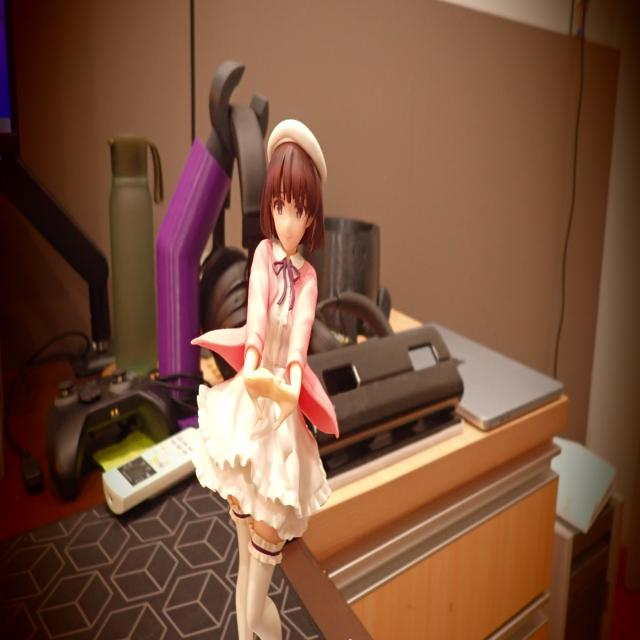My-pink-anime-figure: (194, 120, 338, 639)
